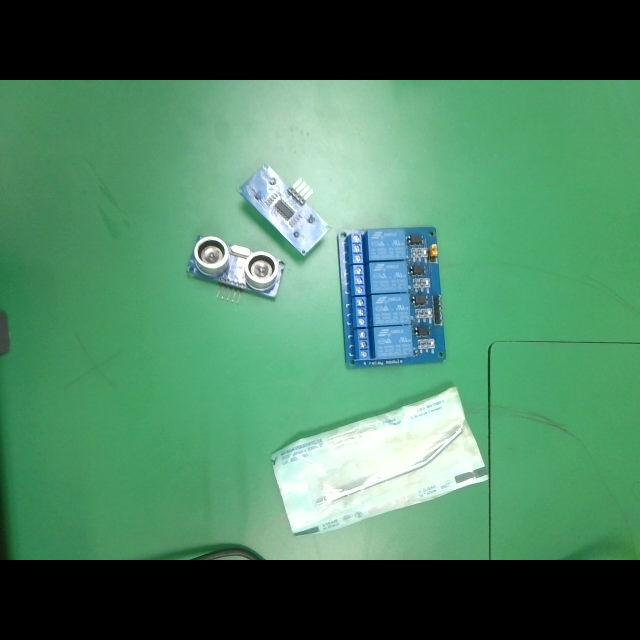relay_module: (339, 226, 445, 368)
triple_syringe: (272, 386, 488, 536)
ultrasonic_hc-sr04: (240, 163, 330, 257), (186, 235, 284, 301)
